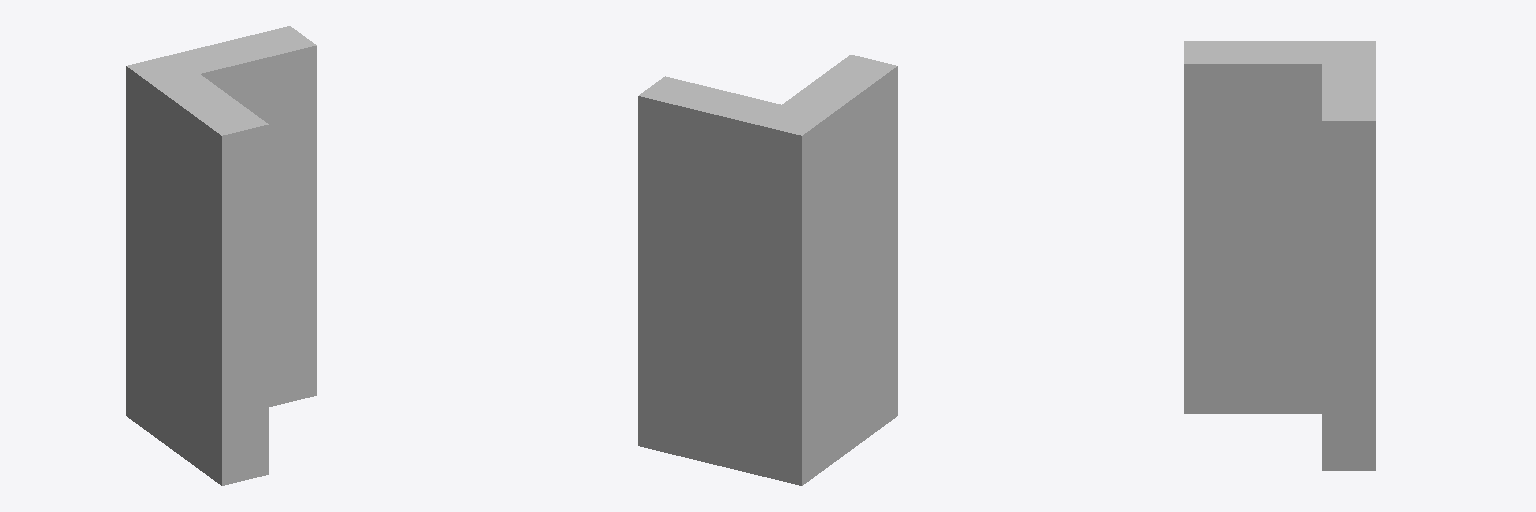
Rendered from wallCon90sOB.obj.
3 views of the same model, side by side, from view 1: azimuth 30°, elevation 25°; view 2: azimuth 150°, elevation 25°; view 3: azimuth 270°, elevation 25° (orthographic).
Parts seen in each view (by area): view 1: WallConnect.90s_Cube.005; view 2: WallConnect.90s_Cube.005; view 3: WallConnect.90s_Cube.005.
Boxes of the visible parts, x1,y1,x2,y2 form: WallConnect.90s_Cube.005: [126, 26, 316, 485]; WallConnect.90s_Cube.005: [638, 55, 897, 485]; WallConnect.90s_Cube.005: [1184, 41, 1375, 470].
Bounding box in the file's own units: 1.96 × 4.01 × 1.98.